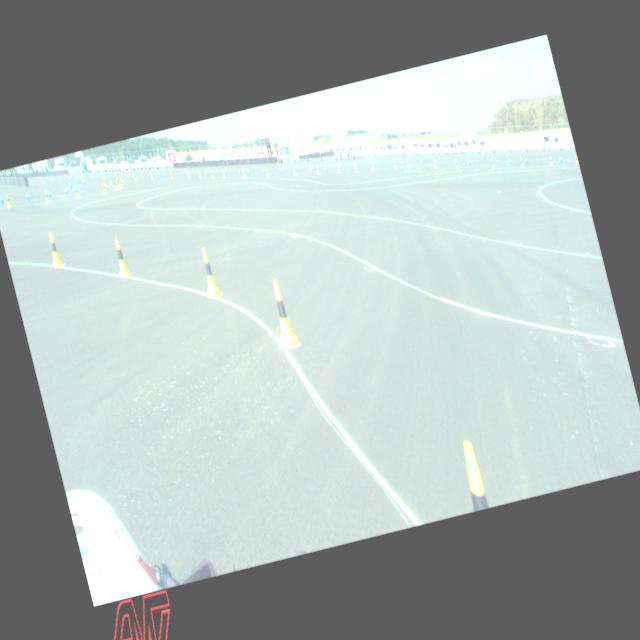blue_cone: (24, 190, 30, 200), (47, 187, 51, 198), (64, 184, 68, 194), (466, 157, 471, 165), (488, 156, 492, 165), (508, 156, 512, 165), (524, 155, 528, 164), (0, 192, 3, 203), (78, 182, 82, 190), (73, 184, 77, 192), (558, 154, 562, 162)
yellow_cone: (265, 276, 299, 349), (456, 440, 488, 511), (197, 246, 221, 297), (110, 236, 131, 276), (46, 232, 62, 267), (4, 194, 10, 206), (44, 190, 50, 202), (75, 186, 80, 198), (518, 156, 524, 166), (101, 182, 106, 193), (548, 157, 554, 166), (432, 158, 437, 168), (114, 180, 119, 189), (490, 158, 495, 167), (242, 168, 246, 178), (336, 164, 341, 172), (392, 158, 396, 168), (454, 158, 458, 168), (574, 154, 578, 164), (120, 178, 124, 187), (116, 177, 120, 186), (221, 169, 225, 178), (265, 167, 269, 176), (316, 164, 320, 173), (353, 162, 357, 171), (370, 160, 374, 169), (102, 177, 106, 185), (120, 174, 124, 182), (198, 170, 202, 178), (292, 166, 296, 174), (406, 159, 410, 167), (210, 169, 213, 178), (108, 175, 111, 183)
